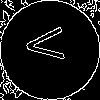V: (25, 25, 74, 64)
